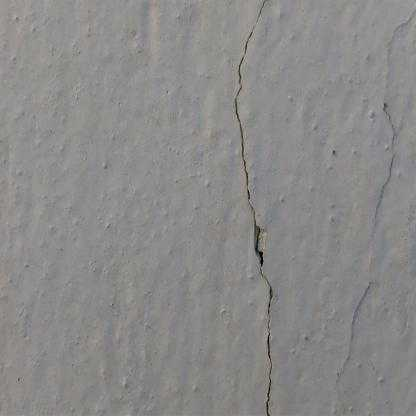crack: (235, 0, 272, 416)
